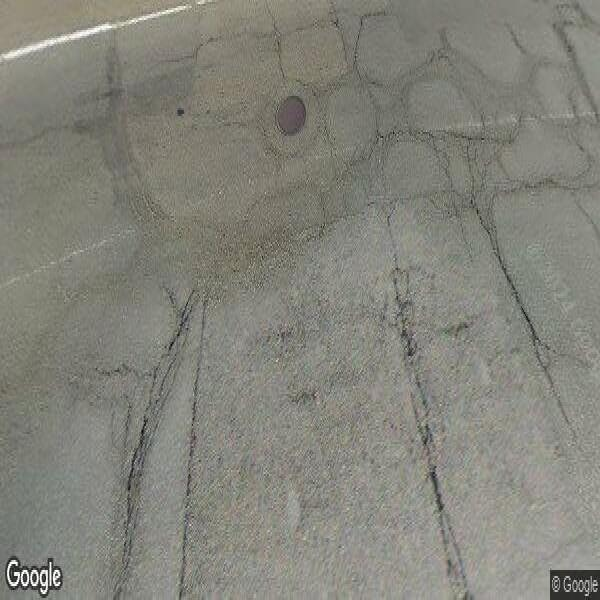manhole: (273, 83, 308, 146)
